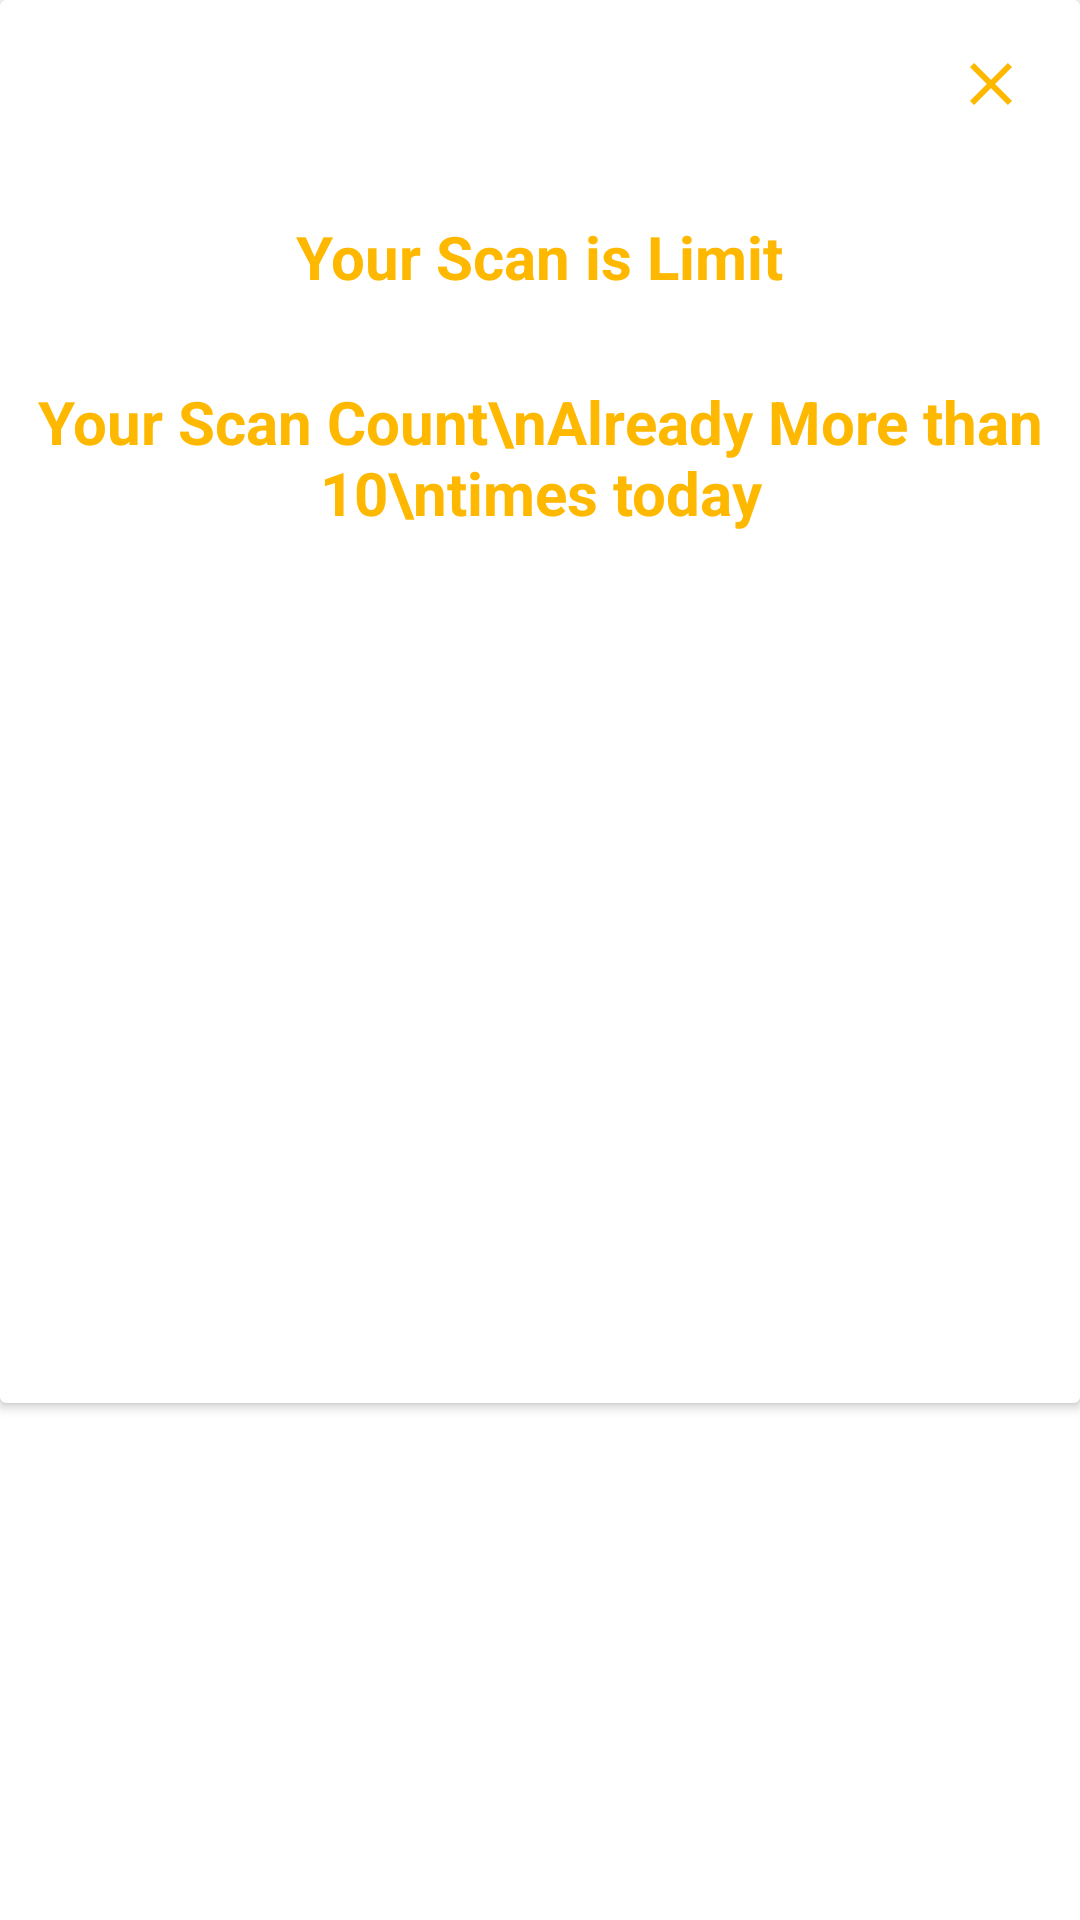

Named icons in this screenshot (1080 x 1920) and their centers, (x=x, y=y):
close: (x=991, y=84)
